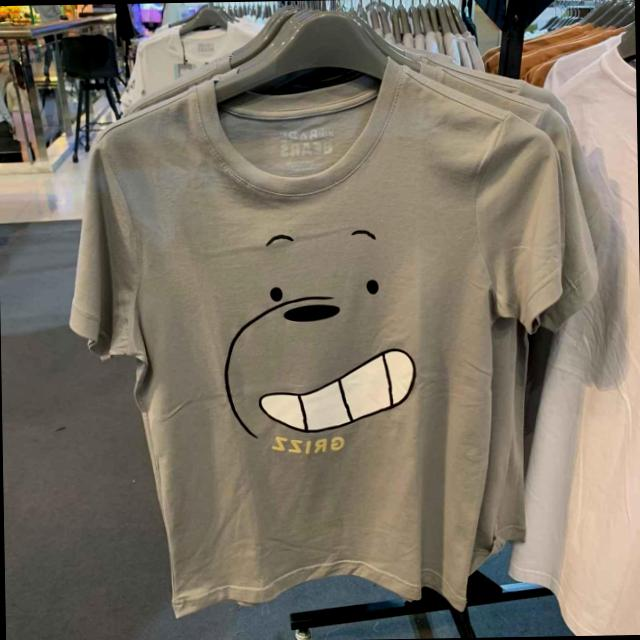Tshirt: (56, 63, 596, 626)
